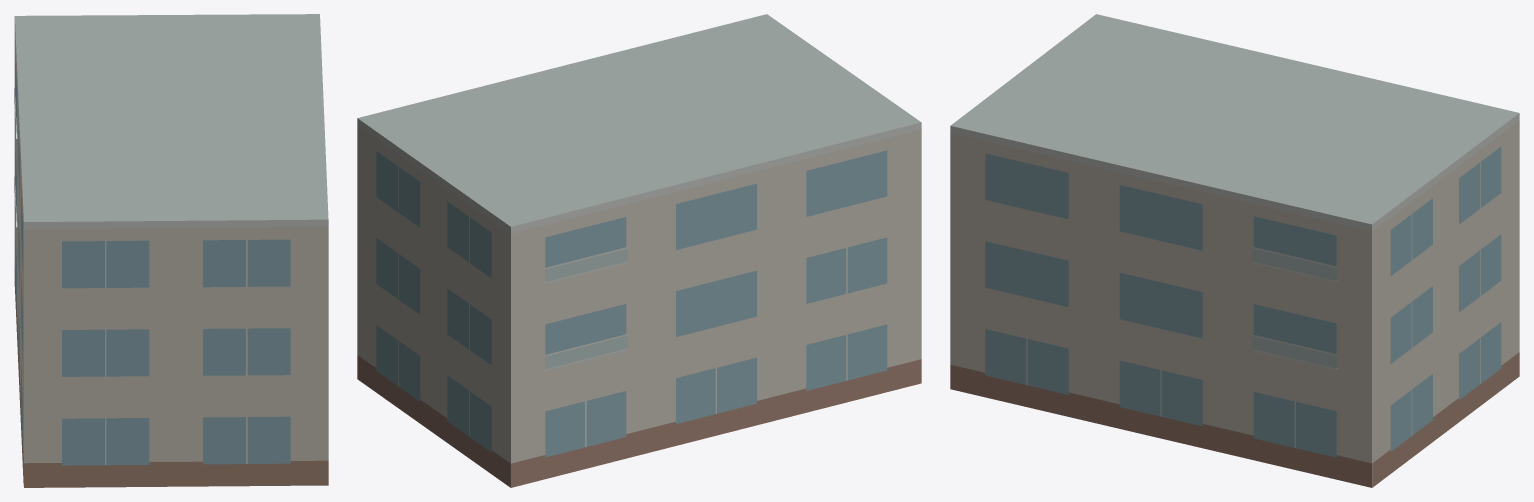
Rendered from survey-upis-32877607.glb.
3 views of the same model, side by side, from view 1: azimuth 30°, elevation 25°; view 2: azimuth 150°, elevation 25°; view 3: azimuth 270°, elevation 25° (orthographic).
Parts seen in each view (by area): view 1: survey-upis-32877607.tmp; view 2: survey-upis-32877607.tmp; view 3: survey-upis-32877607.tmp.
Part boxes in pixels (x1=…): survey-upis-32877607.tmp: x1=14, y1=14, x2=328, y2=487; survey-upis-32877607.tmp: x1=357, y1=14, x2=921, y2=487; survey-upis-32877607.tmp: x1=950, y1=14, x2=1519, y2=487.
Bounding box in the file's own units: 15.69 × 9.15 × 17.94.
